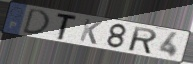4: (157, 31, 180, 59)
8: (105, 23, 130, 50)
D: (21, 7, 51, 36)
K: (78, 18, 104, 46)
R: (128, 26, 158, 56)
T: (56, 13, 80, 41)
